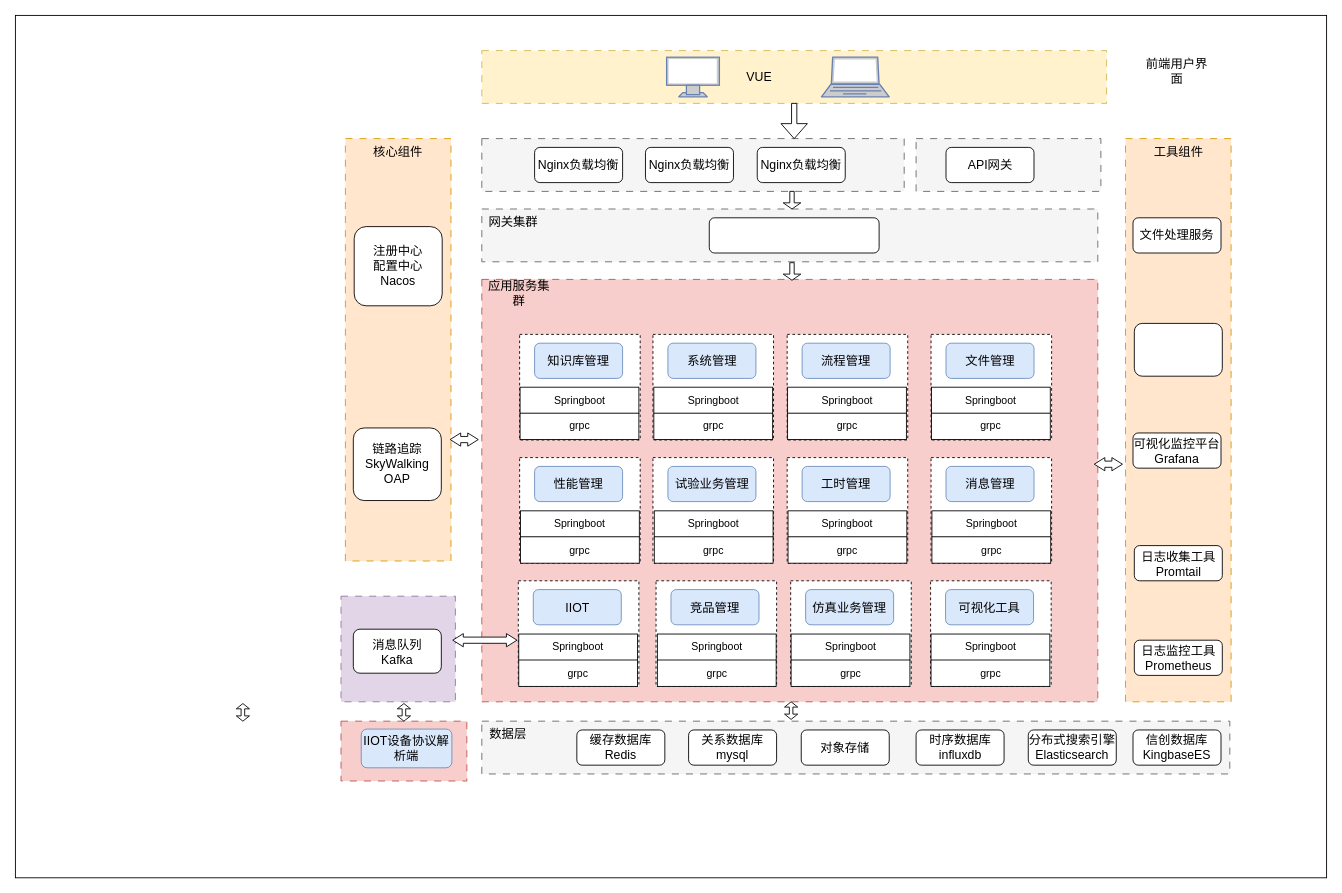
Some shapes in this 1342 by 893 pixel diagram are drawn without their labels. Here are the shapes that lost their labels. From the top down, the centre of each, then its label:
the point at 793,235: 微服务网关 Spring Cloud Gateway
the point at 1177,349: 日志聚合系统 Loki
